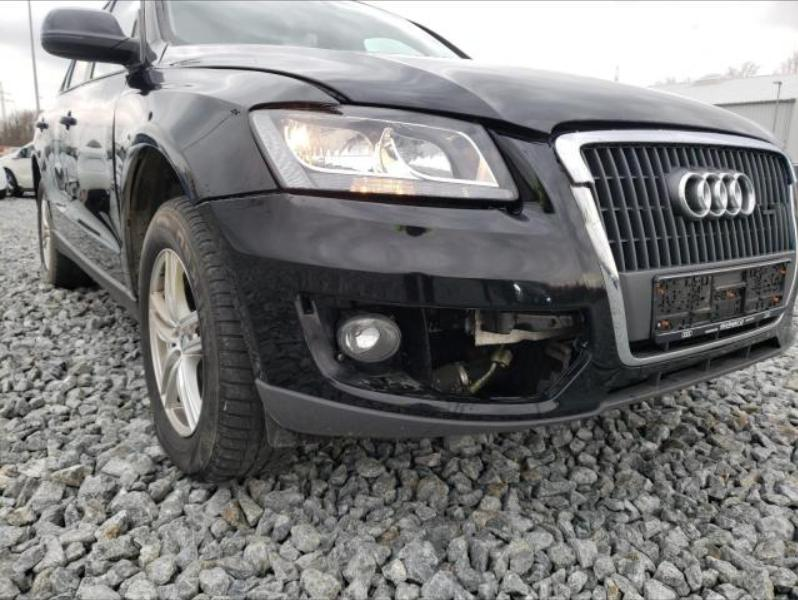Broken part: (553, 131, 798, 369), (194, 142, 545, 213), (366, 100, 779, 149), (186, 63, 364, 107)
Missing part: (296, 291, 593, 405), (652, 264, 788, 340)
